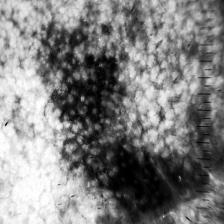Benign Marking or Mole: (41, 25, 186, 214)
